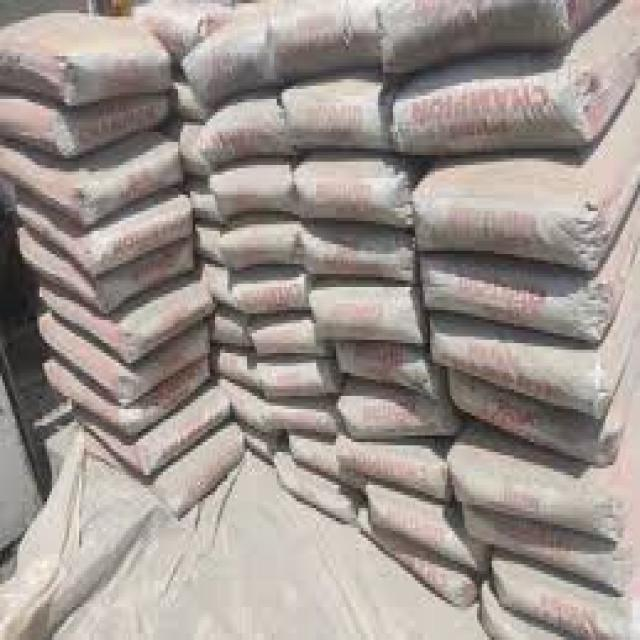cement_bag: (414, 109, 639, 271), (403, 14, 636, 151), (450, 432, 618, 540), (432, 326, 606, 424), (5, 139, 179, 236), (0, 7, 172, 104), (42, 319, 208, 410), (423, 266, 609, 344), (21, 233, 189, 313), (3, 90, 168, 158), (372, 484, 486, 573), (298, 149, 407, 229), (139, 380, 230, 474), (290, 90, 378, 153), (316, 285, 417, 339), (349, 392, 443, 439), (215, 170, 289, 227), (207, 108, 278, 165), (234, 273, 308, 321)
